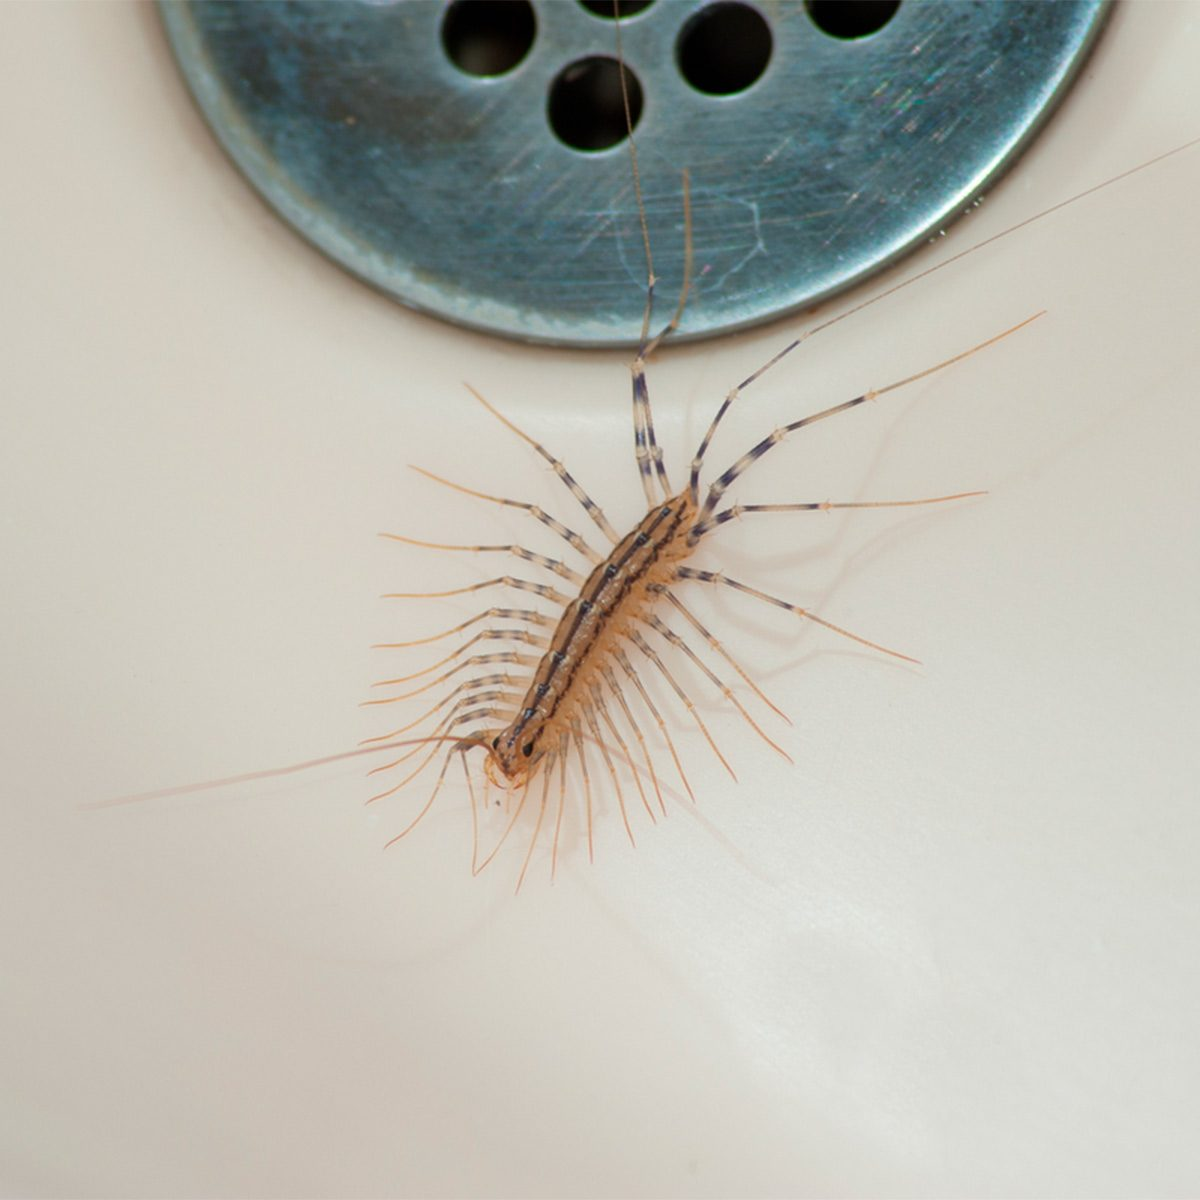centipede: (342, 225, 970, 900)
